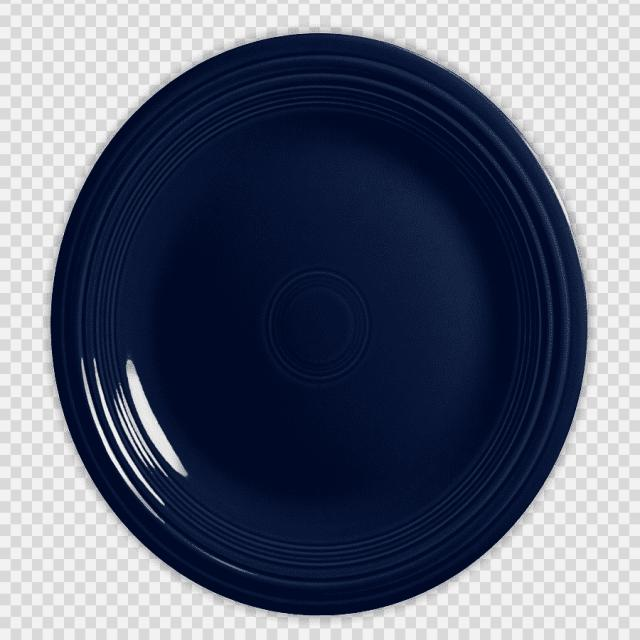Piring: (44, 26, 596, 620)
